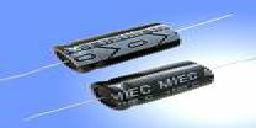Electrolytic-Capacitor: (39, 17, 206, 72), (76, 61, 232, 111)
